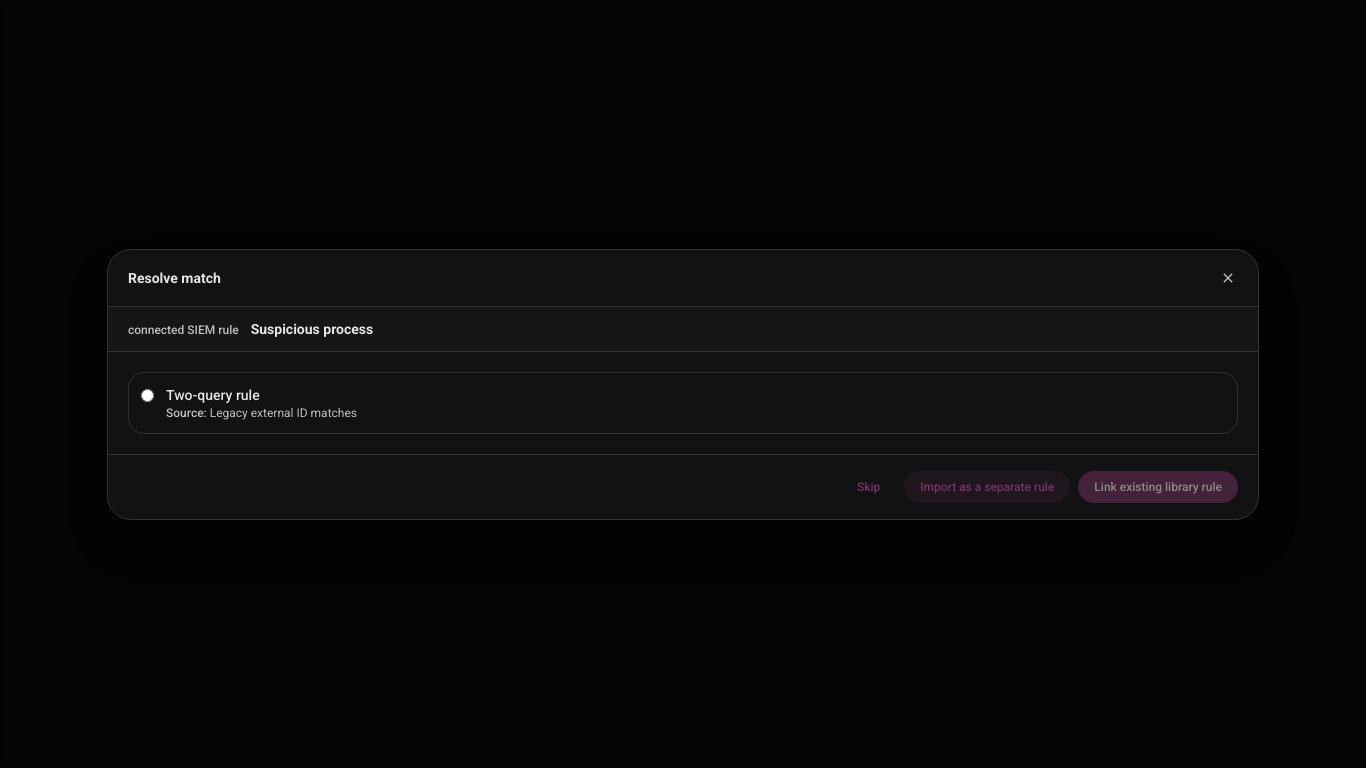
MatchResolutionDialog › shows Baseline not established and the review warning when the selected query differs from the remote query
The width and height of the screenshot is (1366, 768).
Expected: the text "Two-query rule" is shown, [166, 386, 260, 402]
Click the radio button labelled "Two-query rule Source: Legacy external ID matches". click: (148, 395)
box: [141, 388, 154, 402]
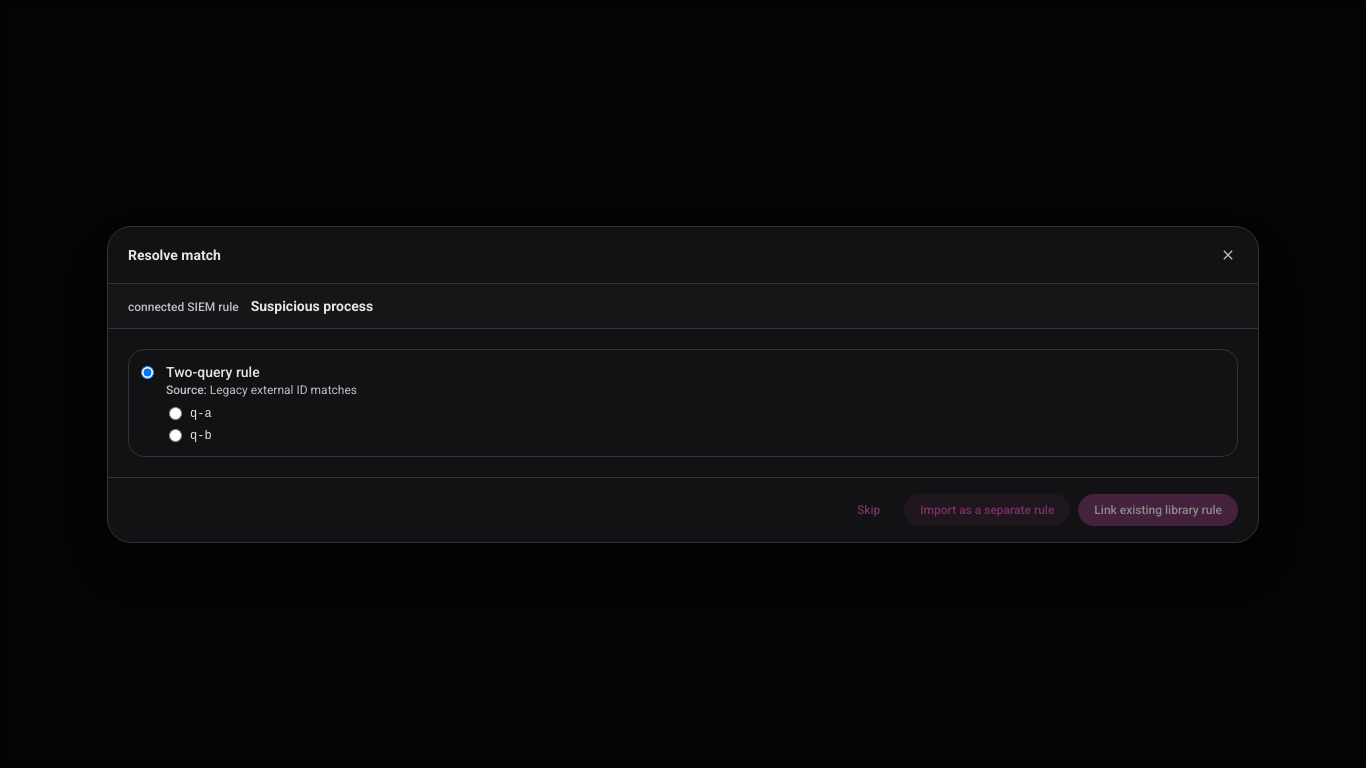
Click the radio button labelled "q-b". click: (176, 436)
box: [169, 429, 182, 442]
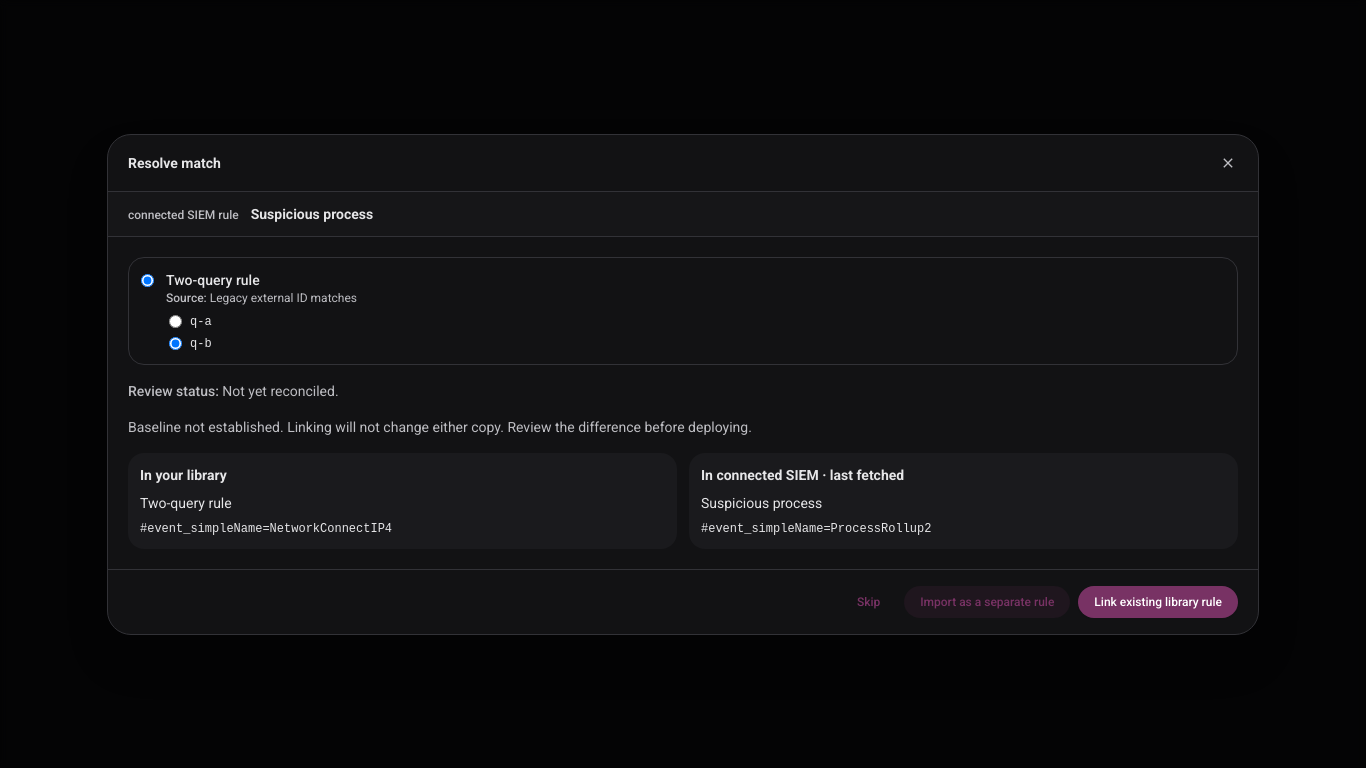
Now the text "Linking will not change either copy. Review the difference before deploying." is shown, box [128, 418, 752, 434]
